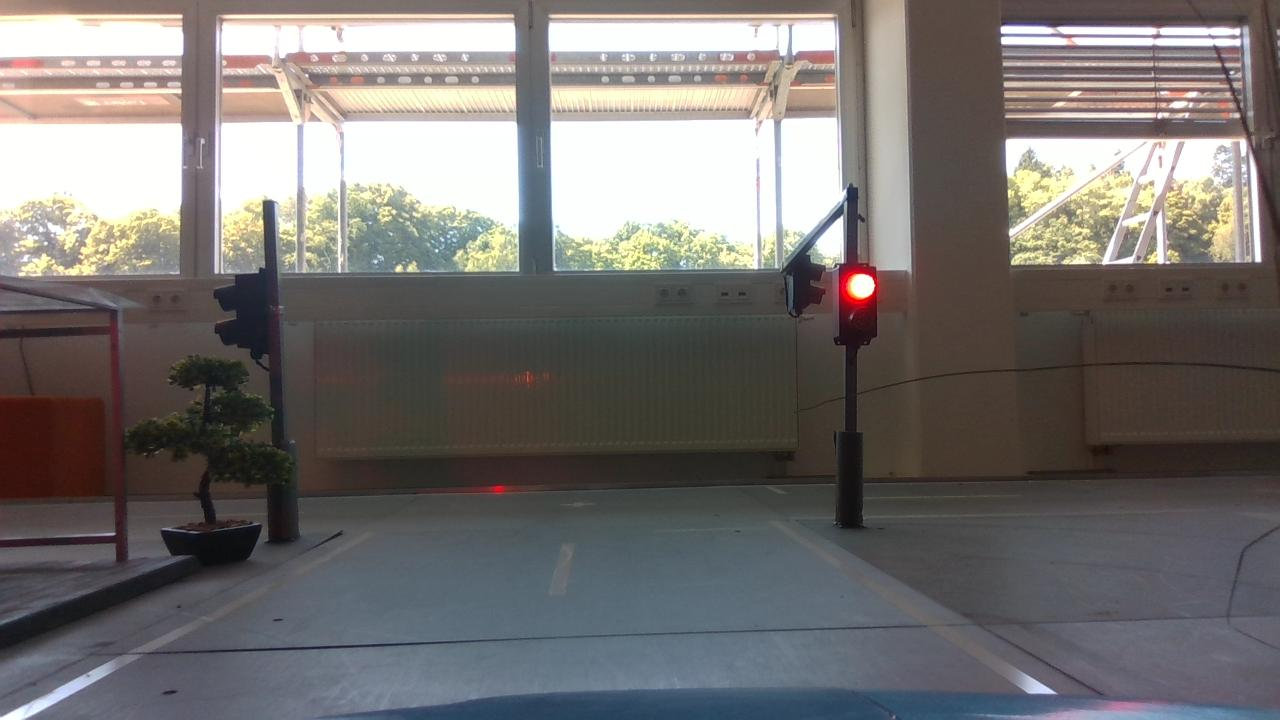traffic_light_red: (823, 256, 890, 355)
